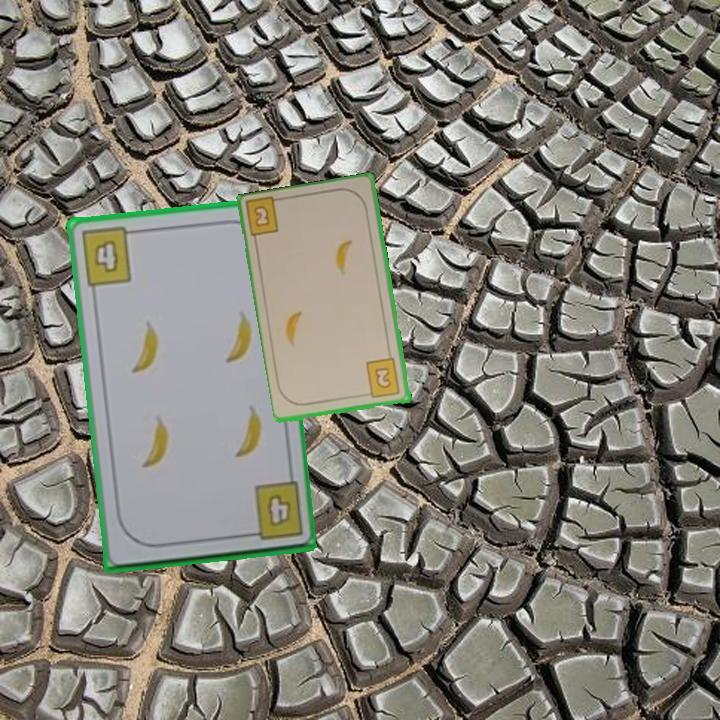2b: (361, 355, 403, 401), (250, 202, 273, 230)
4b: (240, 478, 306, 544), (77, 224, 140, 289)
